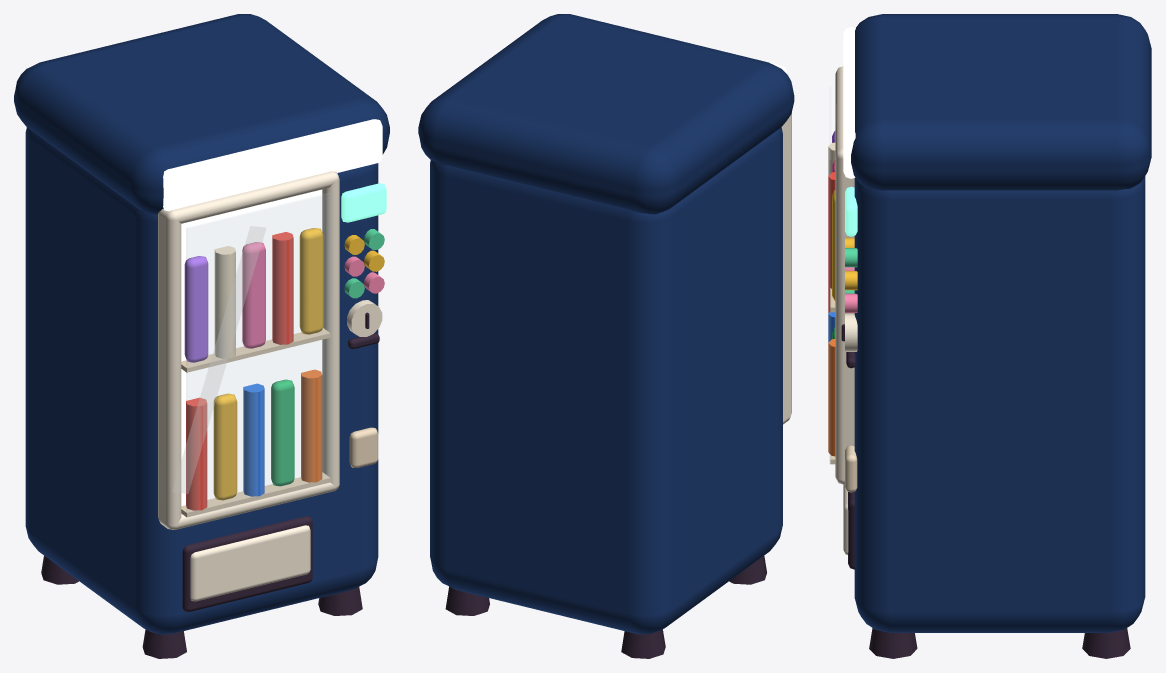
File: machine-drinks.glb
3 renders of one model, left to right at view 1: azimuth 30°, elevation 25°; view 2: azimuth 150°, elevation 25°; view 3: azimuth 270°, elevation 25°, orthographic. The views are drawn at different scales.
Visible parts, largest first — view 1: cabinet, cap, glass, interior-back, header, frame-left, machine-drinks, pickup-flap, frame-right, glass-shine, pickup-recess, frame-top (+14 smaller); view 2: cabinet, cap, frame-left, machine-drinks; view 3: cabinet, cap, frame-right, machine-drinks, header, slot-0-4, frame-top, glass, screen, coin-return, pickup-recess, slot-1-3 (+1 smaller).
Boxes of the visible parts, x1,y1,x2,y2 form: cabinet: (25, 127, 378, 634); cap: (14, 14, 389, 214); glass: (187, 193, 330, 517); interior-back: (181, 189, 322, 505); header: (163, 119, 382, 211); frame-left: (158, 209, 181, 529); machine-drinks: (41, 229, 384, 658); pickup-flap: (190, 525, 310, 601); frame-right: (322, 171, 339, 490); glass-shine: (172, 226, 266, 493); pickup-recess: (182, 516, 312, 611); frame-top: (159, 171, 339, 223); cabinet: (430, 127, 782, 634); cap: (418, 14, 794, 214); frame-left: (781, 112, 791, 423); machine-drinks: (445, 556, 766, 658); cabinet: (854, 176, 1145, 632); cap: (851, 14, 1151, 190); frame-right: (835, 148, 854, 483); machine-drinks: (830, 238, 1130, 658); header: (843, 27, 855, 178); slot-0-4: (828, 339, 835, 456); frame-top: (835, 67, 843, 159); glass: (829, 87, 830, 463); screen: (845, 186, 857, 236); coin-return: (845, 445, 857, 492); pickup-recess: (848, 492, 854, 569); slot-1-3: (828, 172, 835, 288).
Size of the model in its own units: 0.96 by 1.83 by 1.
